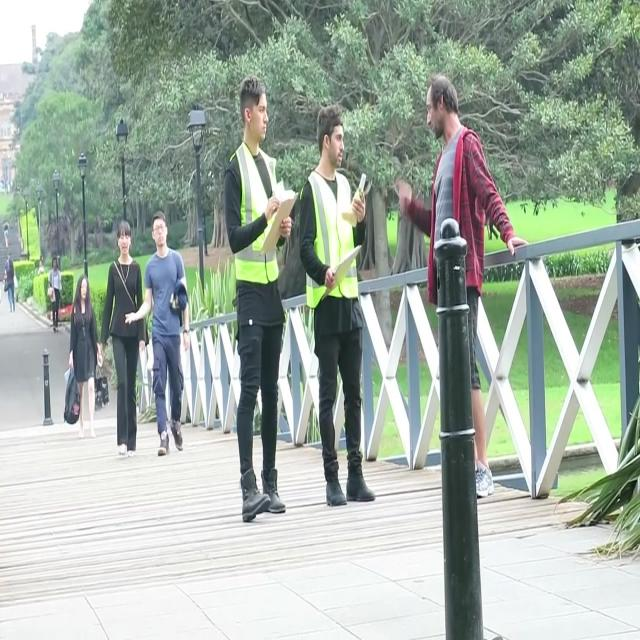Reflective-Jacket: (302, 165, 364, 308), (226, 142, 284, 291)
